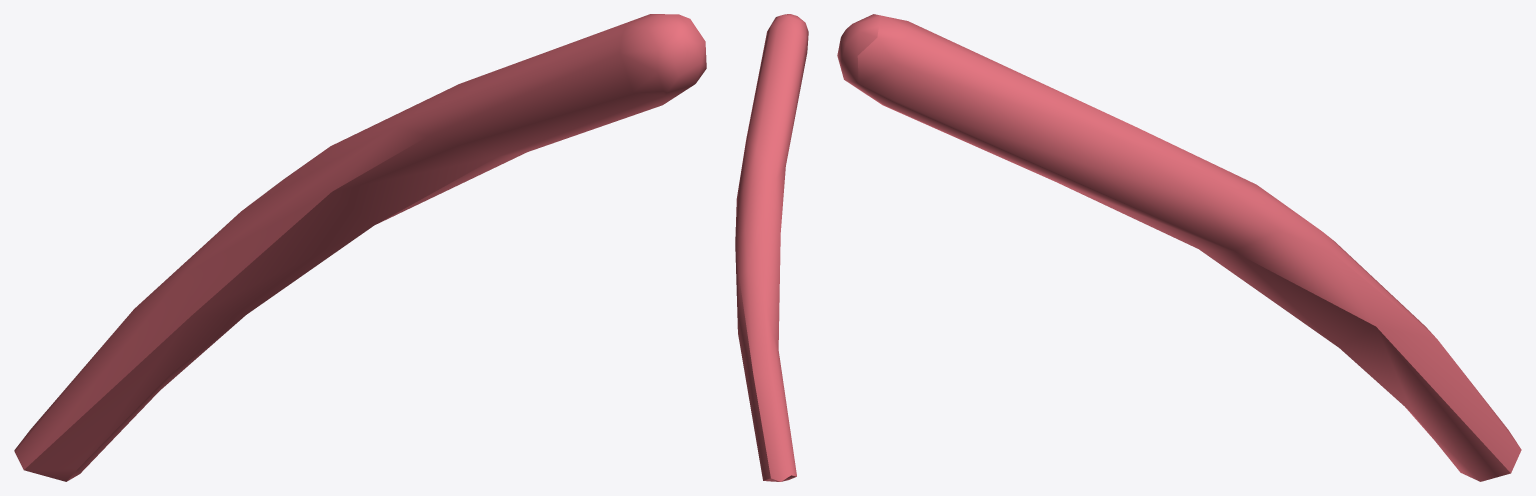
The model's file is fma9425_fj6135.glb.
3 views of the same model, side by side, from view 1: azimuth 30°, elevation 25°; view 2: azimuth 150°, elevation 25°; view 3: azimuth 270°, elevation 25° (orthographic). The views are drawn at different scales.
Visible parts, largest first — view 1: FMA9425_FJ6135; view 2: FMA9425_FJ6135; view 3: FMA9425_FJ6135.
Part boxes in pixels (x1=…): FMA9425_FJ6135: x1=14, y1=14, x2=706, y2=481; FMA9425_FJ6135: x1=735, y1=14, x2=808, y2=481; FMA9425_FJ6135: x1=837, y1=14, x2=1521, y2=481.
Bounding box in the file's own units: 0.0122 × 0.02 × 0.0208.
